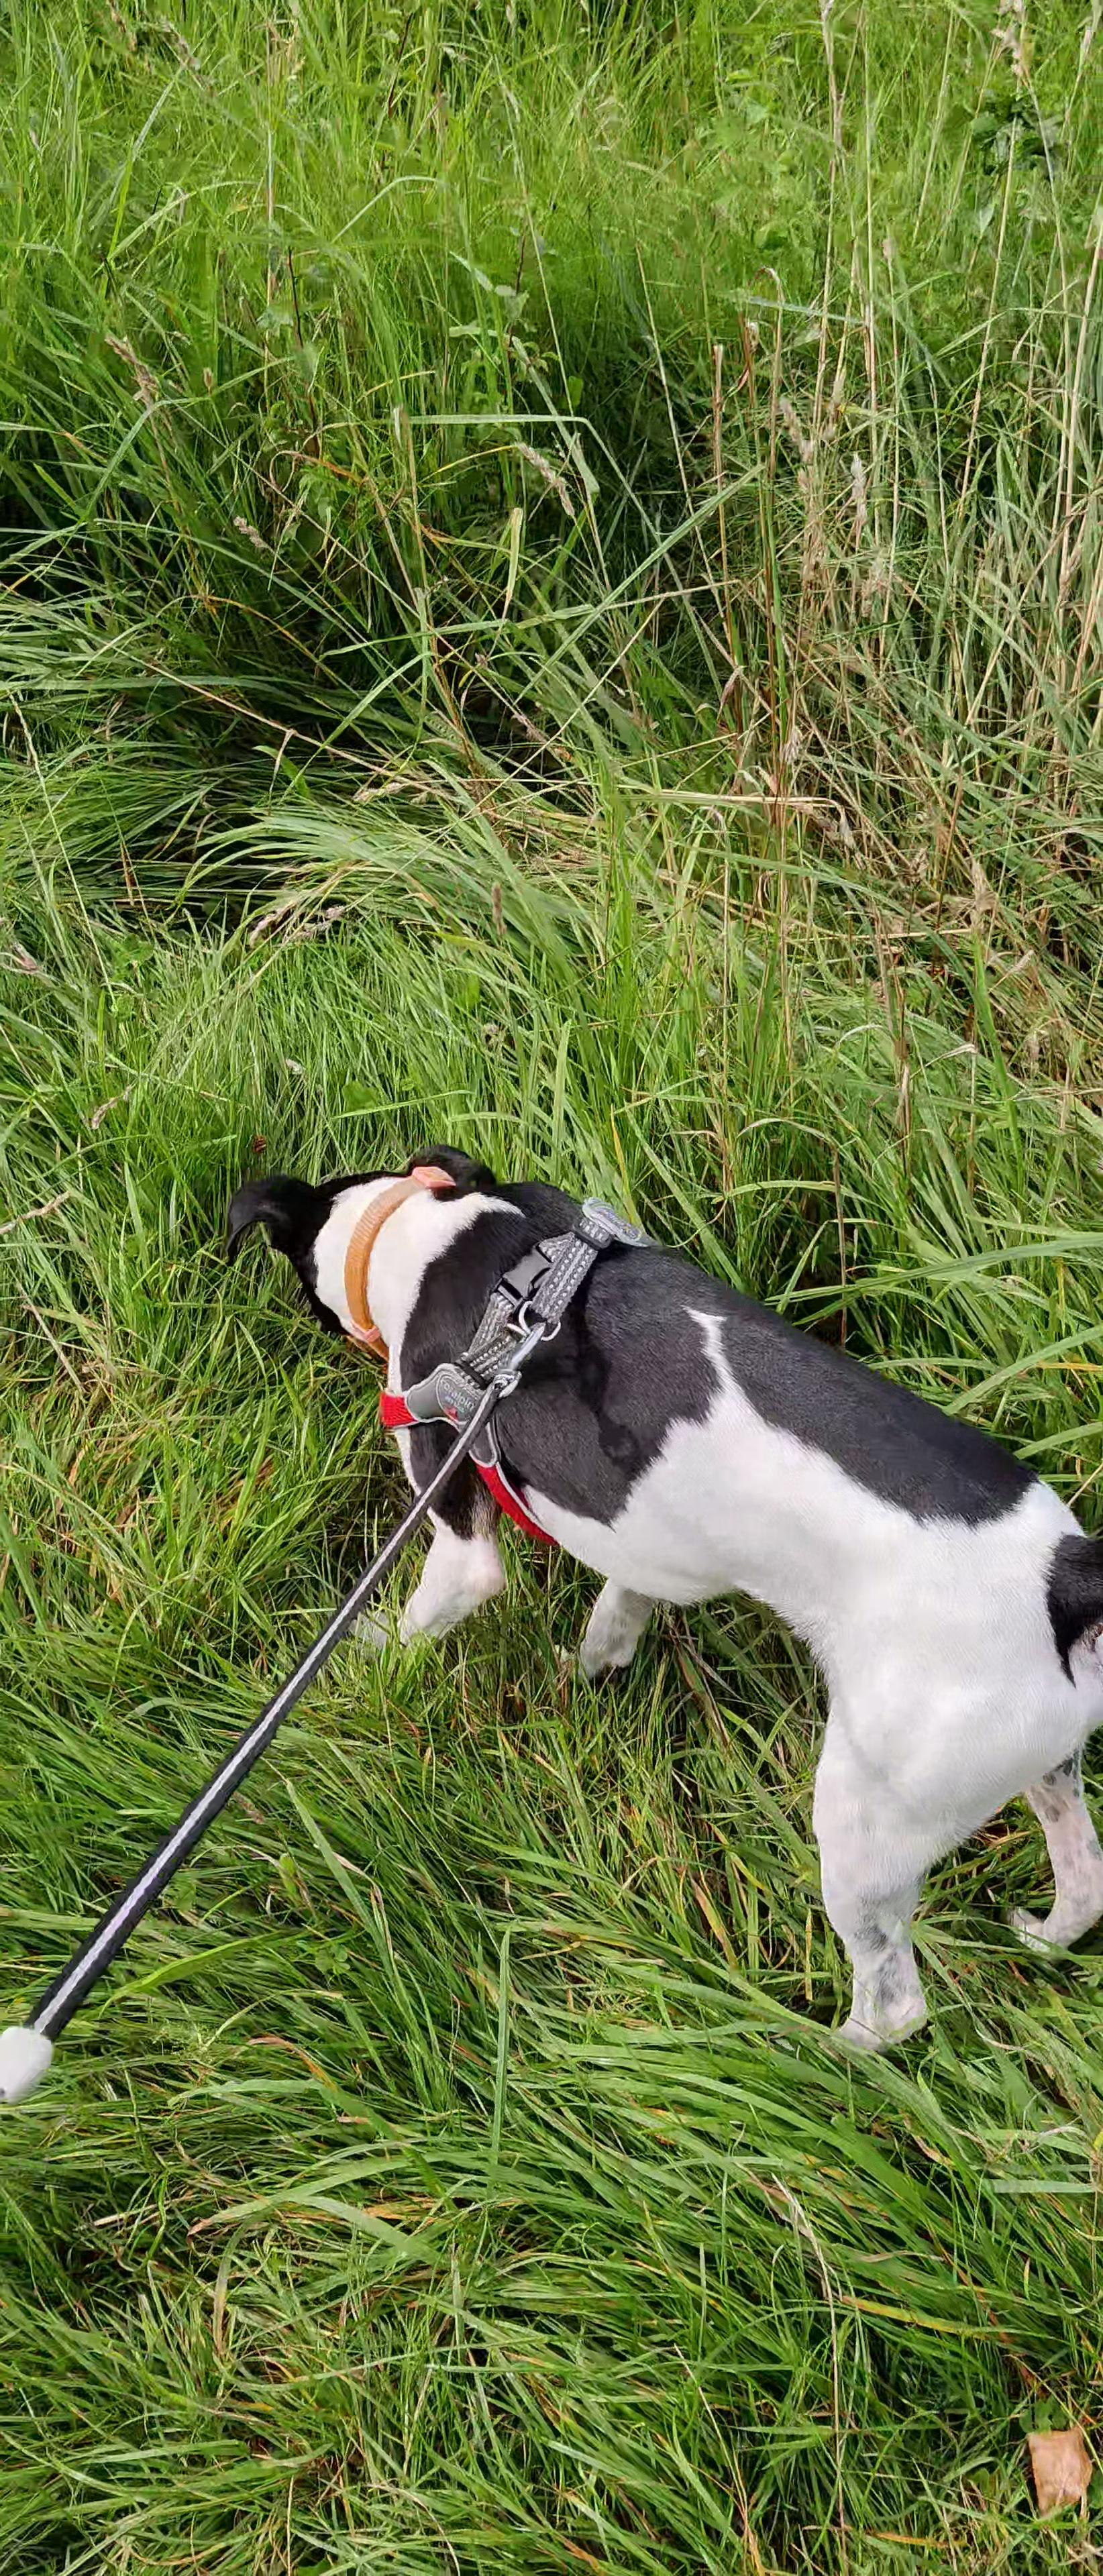Dog: (217, 1130, 1103, 2058)
